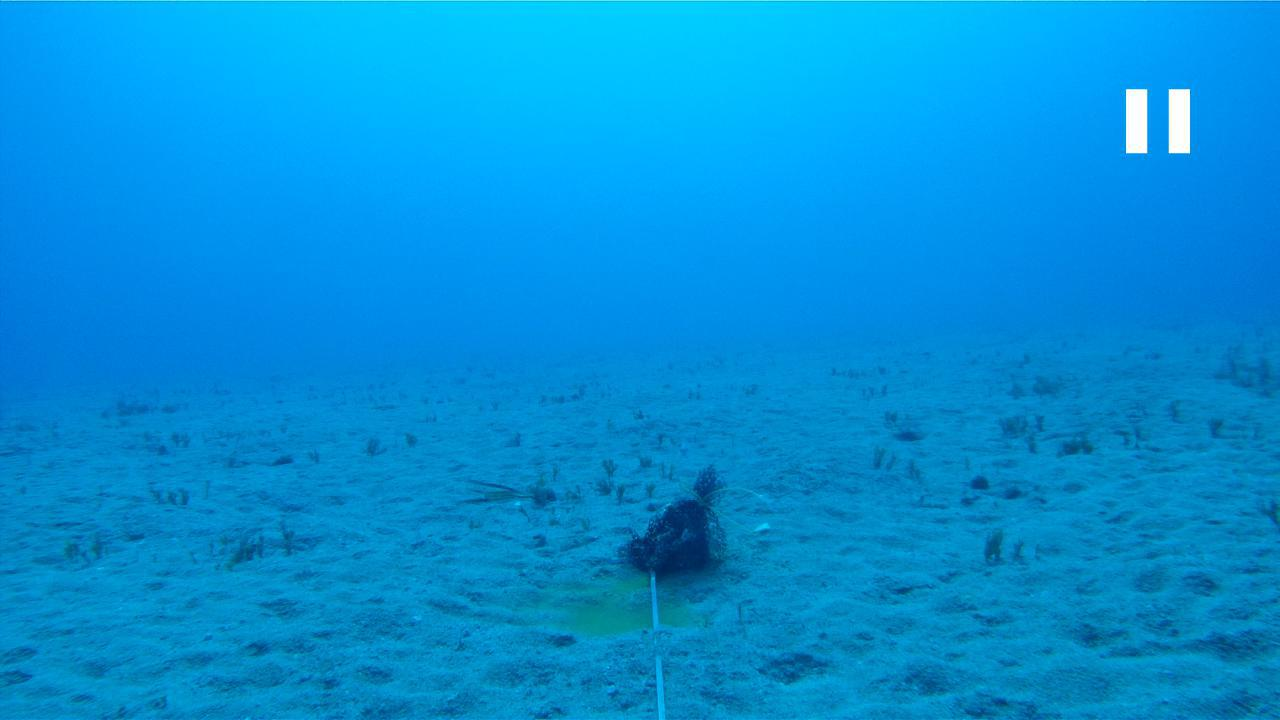bothus: (886, 424, 930, 442)
